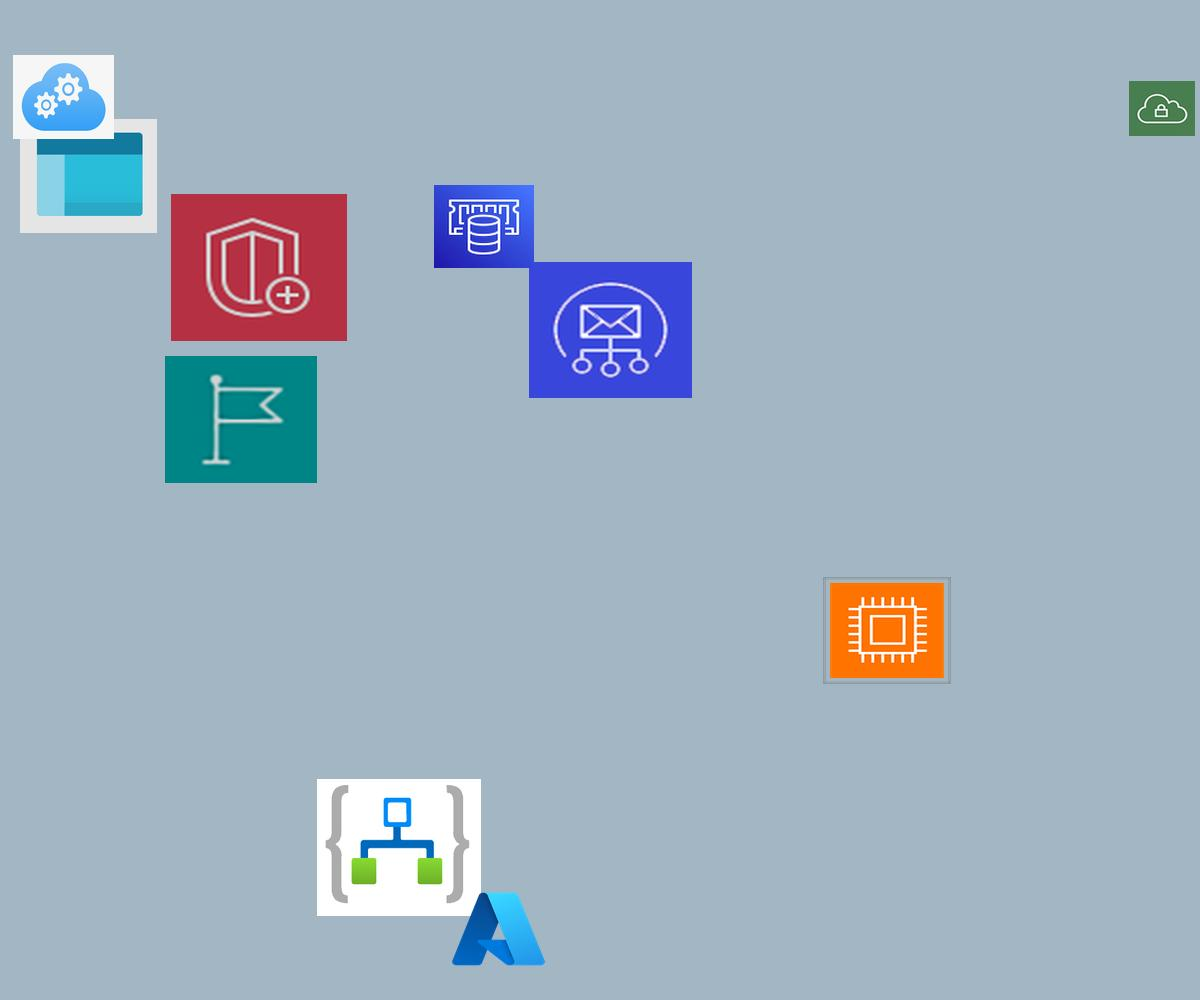AWS-Category_Compute: (823, 577, 951, 684)
AWS-ElastiCache: (434, 185, 534, 268)
AWS-Private_vpc: (1129, 81, 1195, 136)
AWS-Region: (165, 356, 317, 483)
AWS-Shield: (171, 194, 347, 341)
AWS-Simple-Email-Service: (529, 262, 692, 398)
Azure_cloud_services: (13, 55, 114, 139)
Azure_integration-204-Logic-Apps: (317, 779, 481, 916)
Azure_management-portal: (20, 119, 157, 233)
Azure_services: (448, 887, 549, 971)
